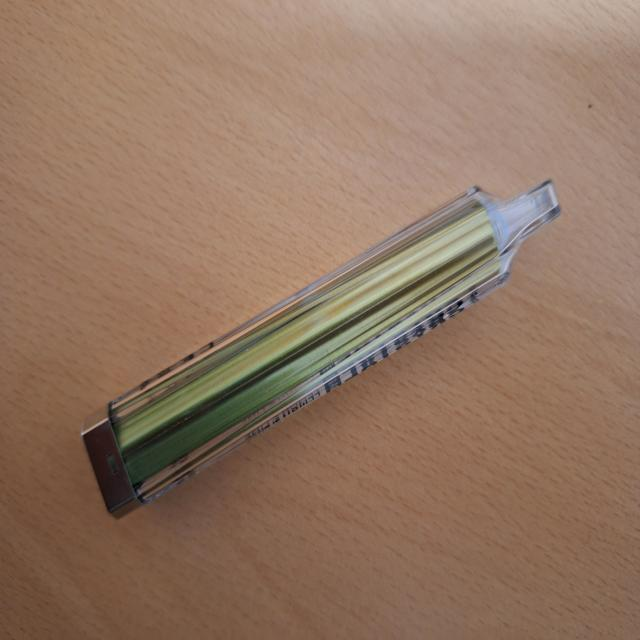Hazard: (80, 177, 561, 516)
